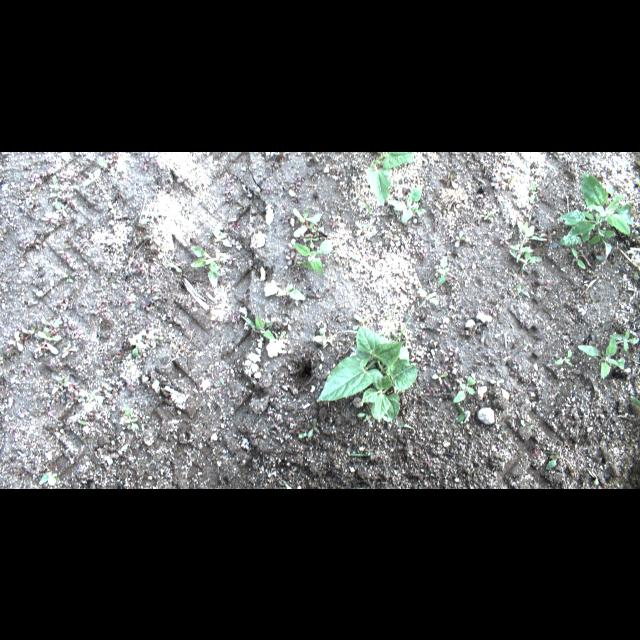crop: (315, 326, 417, 422), (364, 152, 414, 204)
weed: (556, 172, 634, 260), (577, 334, 625, 380), (388, 182, 428, 222), (293, 236, 335, 274), (190, 244, 222, 288), (242, 314, 276, 340), (608, 327, 640, 351), (452, 372, 476, 402), (517, 218, 547, 242), (510, 250, 542, 272), (394, 311, 412, 345), (292, 205, 322, 223), (127, 332, 147, 358), (274, 284, 306, 300), (508, 243, 536, 261), (312, 323, 334, 345), (212, 227, 235, 247), (124, 403, 138, 433), (436, 256, 450, 286), (34, 337, 60, 353), (440, 168, 460, 188), (419, 286, 439, 306), (554, 348, 574, 367), (570, 247, 586, 270), (35, 326, 61, 340), (6, 330, 24, 350), (51, 370, 71, 388), (292, 223, 312, 241), (542, 452, 560, 471), (49, 174, 63, 198), (38, 471, 58, 487), (355, 220, 373, 236), (430, 368, 448, 384), (353, 312, 369, 330), (306, 418, 320, 438), (454, 401, 466, 424), (530, 180, 542, 202), (284, 250, 300, 266), (62, 344, 80, 358), (310, 218, 324, 236), (42, 318, 64, 329), (378, 328, 408, 336), (54, 200, 68, 217), (40, 210, 58, 223), (398, 420, 417, 432), (77, 418, 91, 434), (453, 230, 465, 248), (589, 468, 601, 486), (308, 231, 320, 247), (477, 208, 493, 220), (517, 281, 529, 297), (489, 176, 503, 188), (22, 325, 38, 335), (356, 408, 368, 420), (488, 379, 504, 387), (629, 394, 639, 406), (36, 237, 49, 246), (338, 329, 362, 333), (386, 304, 388, 338), (348, 454, 374, 456), (298, 432, 306, 438)
